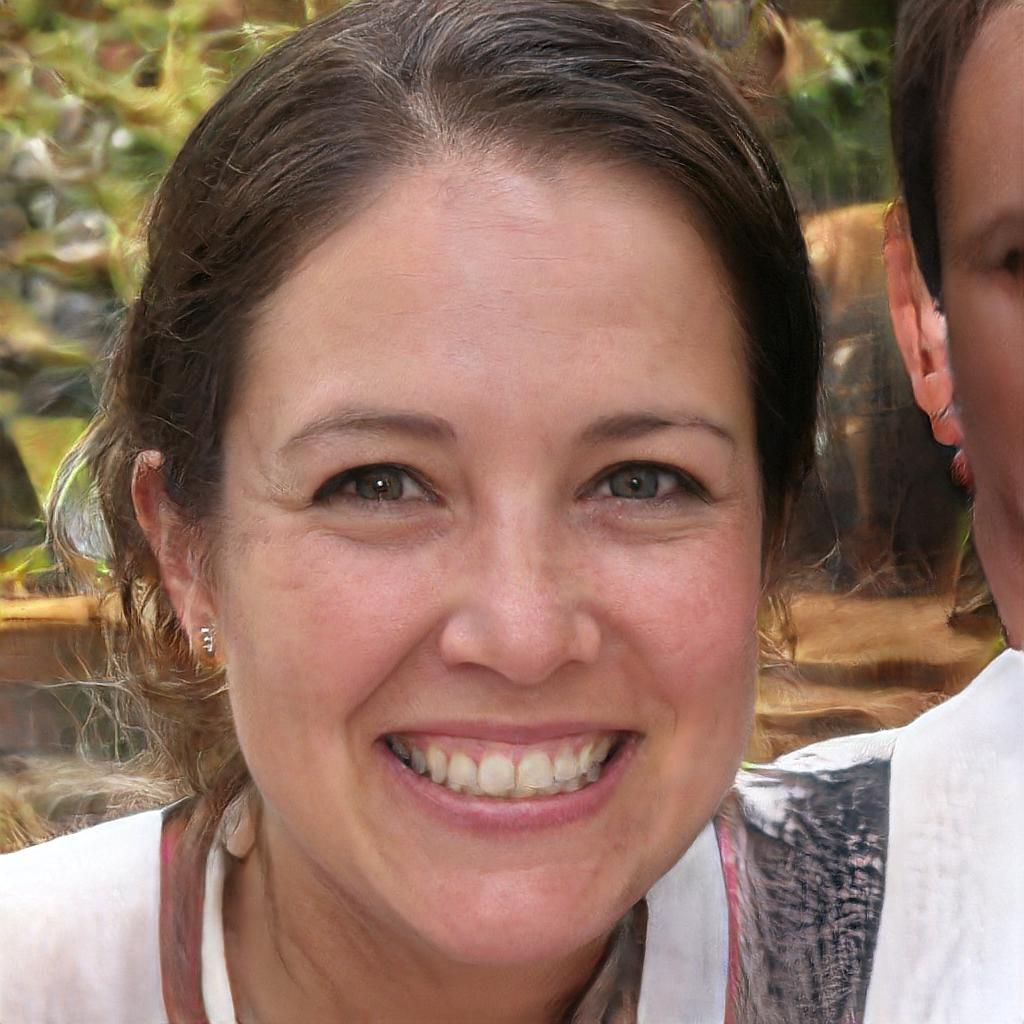face: (223, 167, 763, 967)
